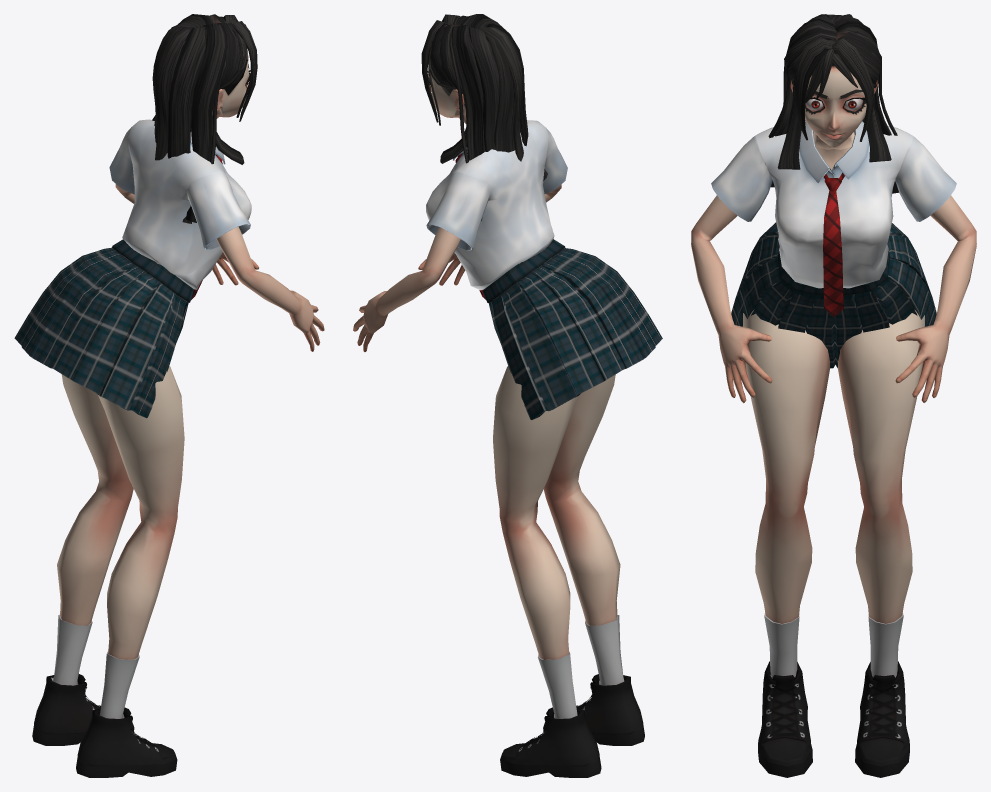
The model's file is college_girl_ridicka.glb.
3 views of the same model, side by side, from view 1: azimuth 30°, elevation 25°; view 2: azimuth 150°, elevation 25°; view 3: azimuth 270°, elevation 25° (orthographic). The views are drawn at different scales.
Bounding box in the file's own units: 0.587 × 1.57 × 0.5165.
3 materials, 3 textured.
